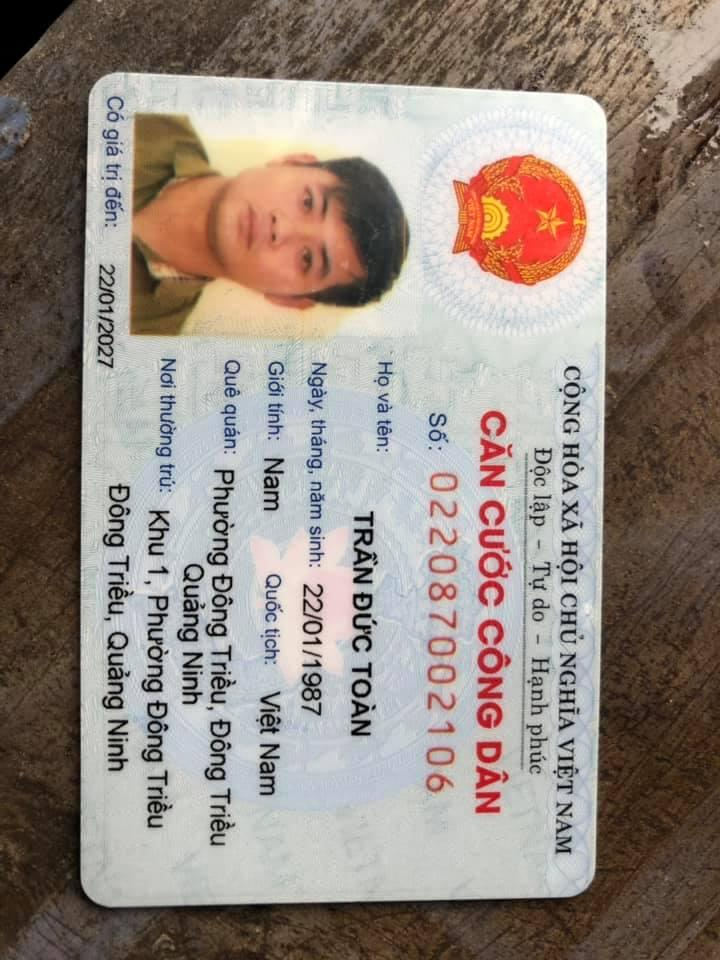bottom_left: (643, 111, 675, 173)
bottom_right: (34, 97, 62, 154)
image_person: (468, 168, 635, 563)
top_left: (625, 772, 653, 816)
top_right: (42, 751, 72, 800)
